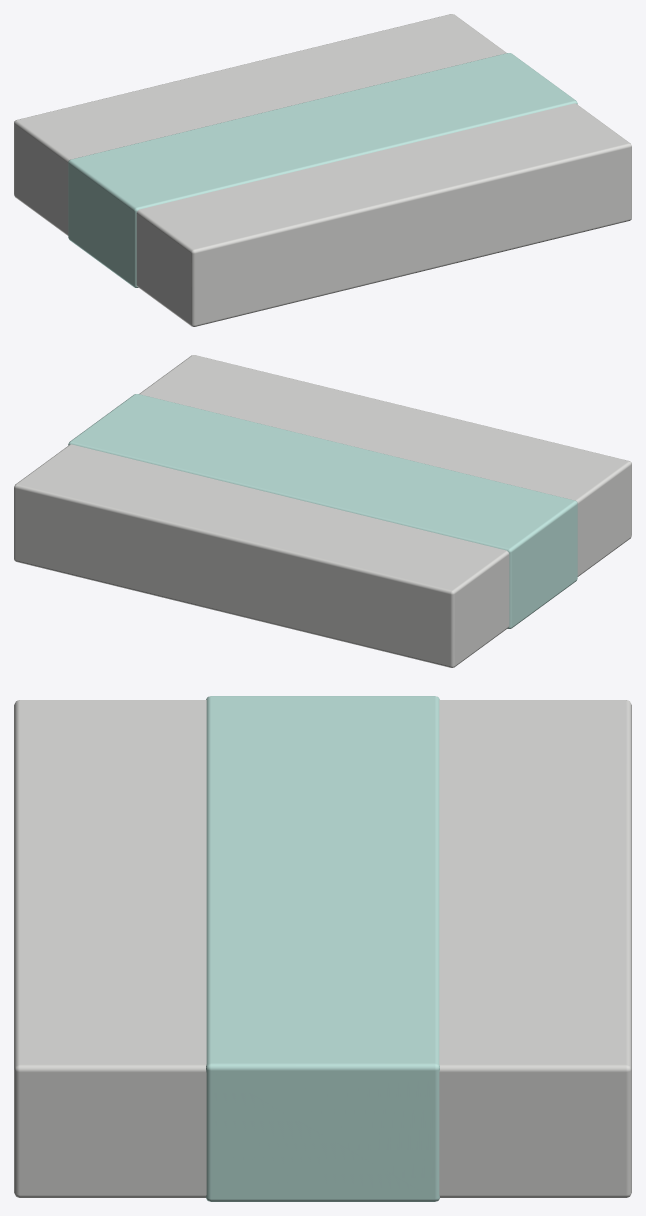
File: SM_ReamOfPaper.fbx
3 views of the same model, one above another, from view 1: azimuth 30°, elevation 25°; view 2: azimuth 150°, elevation 25°; view 3: azimuth 270°, elevation 25° (orthographic). The views are drawn at different scales.
Visible parts, largest first — view 1: SM_ReamOfPaper; view 2: SM_ReamOfPaper; view 3: SM_ReamOfPaper.
Boxes of the visible parts, left/top/right/bottom form: SM_ReamOfPaper: left=14, top=14, right=631, bottom=326; SM_ReamOfPaper: left=14, top=355, right=631, bottom=667; SM_ReamOfPaper: left=14, top=696, right=631, bottom=1201.
Bounding box in the file's own units: 0.299 × 0.052 × 0.21.
